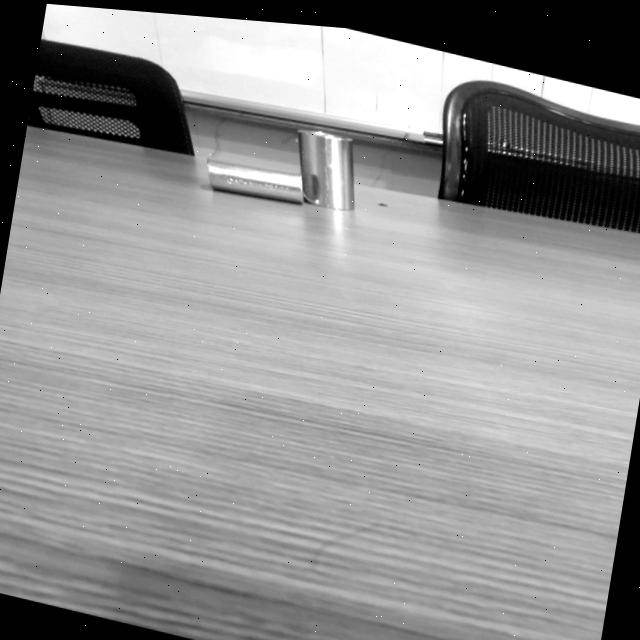Co_Lon: (298, 129, 355, 212)
Co_Nho: (204, 160, 308, 206)
